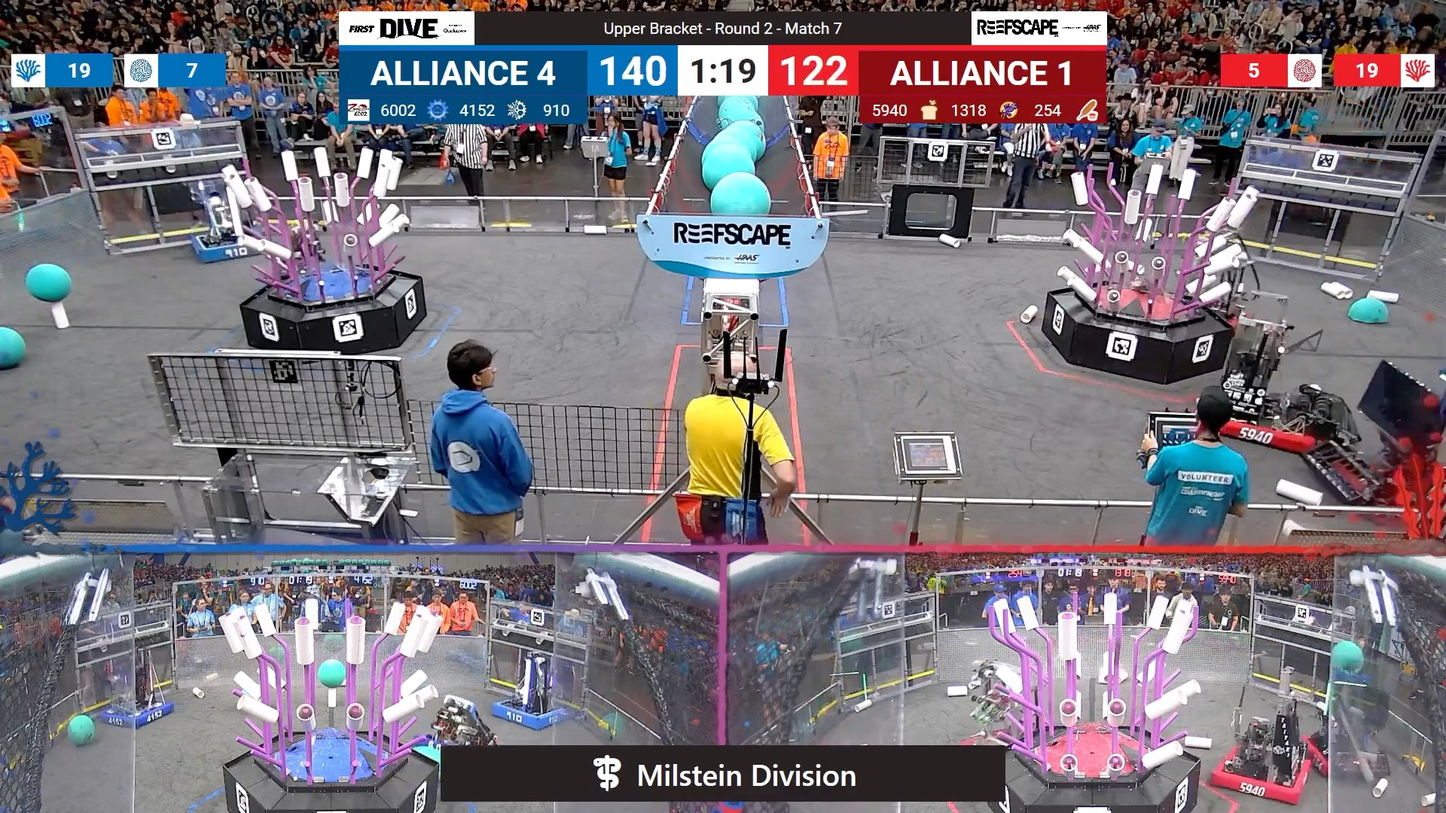bumpers: (1188, 388, 1343, 464), (1306, 440, 1446, 506), (1203, 738, 1325, 807), (1303, 729, 1398, 792), (485, 698, 574, 735), (95, 698, 182, 735), (185, 232, 270, 268)
